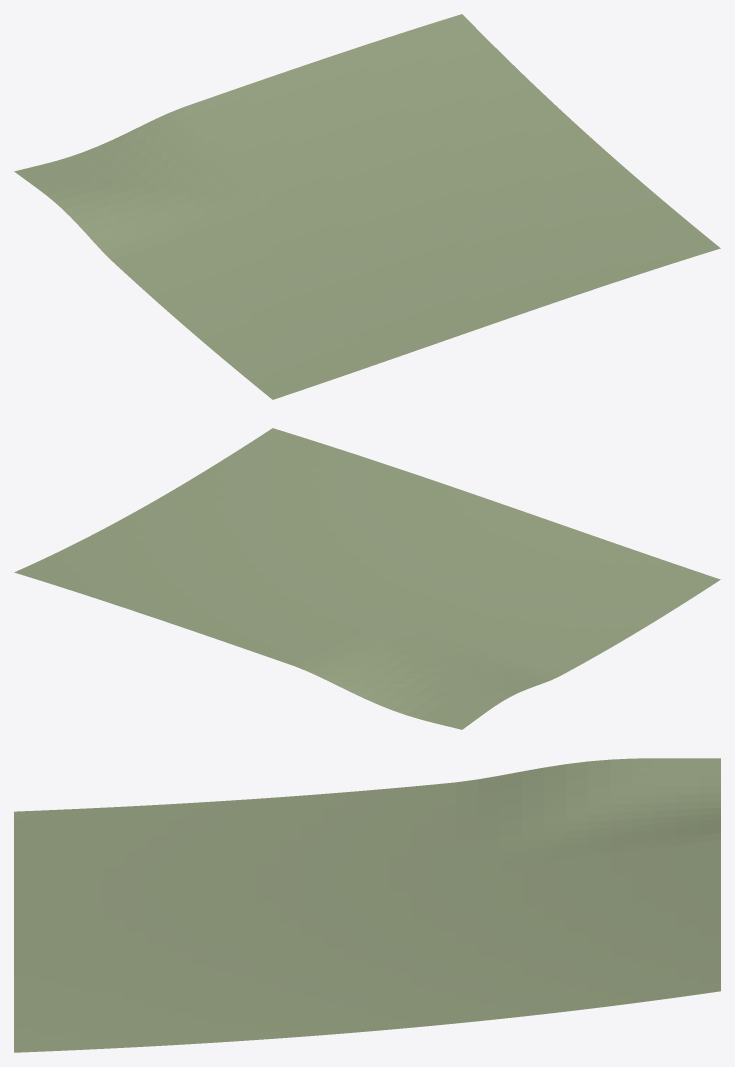
File: valley-14-3.glb
3 views of the same model, one above another, from view 1: azimuth 30°, elevation 25°; view 2: azimuth 150°, elevation 25°; view 3: azimuth 270°, elevation 25° (orthographic). The views are drawn at different scales.
Visible parts, largest first — view 1: valley-14-3; view 2: valley-14-3; view 3: valley-14-3.
Boxes of the visible parts, x1=… form: valley-14-3: x1=14, y1=14, x2=720, y2=399; valley-14-3: x1=14, y1=428, x2=720, y2=729; valley-14-3: x1=14, y1=758, x2=720, y2=1052.
Size of the model in its own units: 256 by 47.59 by 256.
